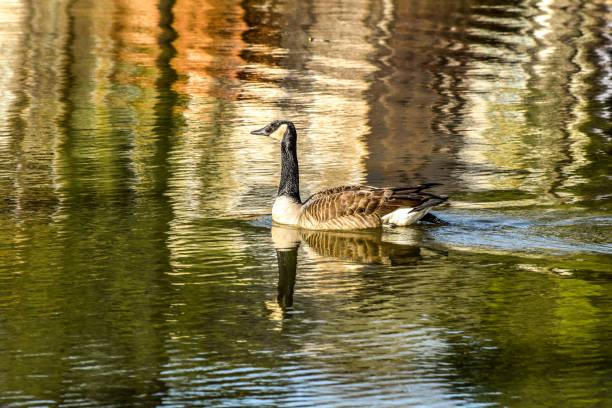Canadian-Goose: (250, 117, 452, 232)
